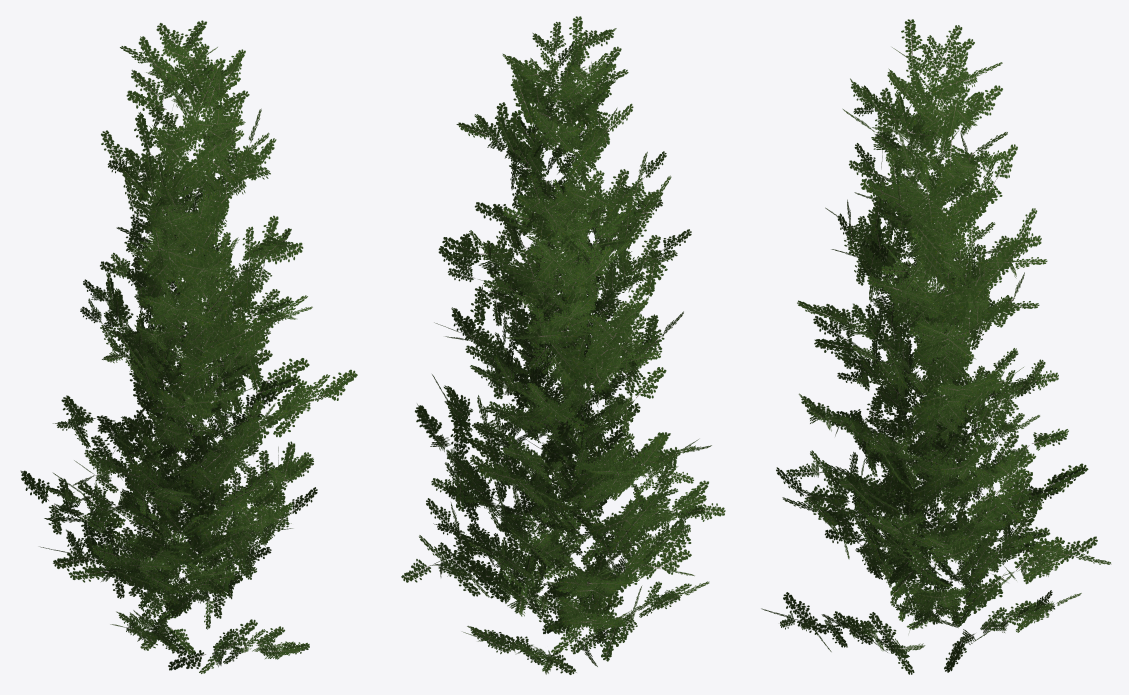
Rendered from alder_leaf.glb.
The picture shows the model from 3 angles, left to right: view 1: azimuth 30°, elevation 25°; view 2: azimuth 150°, elevation 25°; view 3: azimuth 270°, elevation 25°; orthographic projection. The views are drawn at different scales.
Parts seen in each view (by area): view 1: alder_a, alder_b; view 2: alder_a, alder_b; view 3: alder_a, alder_b.
Boxes of the visible parts, x1,y1,x2,y2 form: alder_a: (20,20,357,607); alder_b: (39,156,317,673); alder_a: (401,16,711,634); alder_b: (426,166,725,674); alder_a: (776,19,1111,626); alder_b: (761,189,1081,674).
Size of the model in its own units: 6.05 by 13.08 by 6.59.
Materials: 1 (1 with a texture image).
